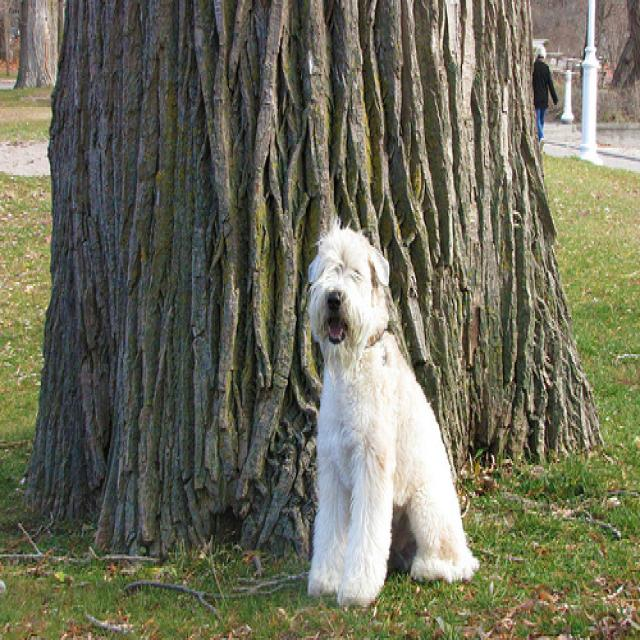dog-wheaten_terrier: (297, 214, 484, 615)
